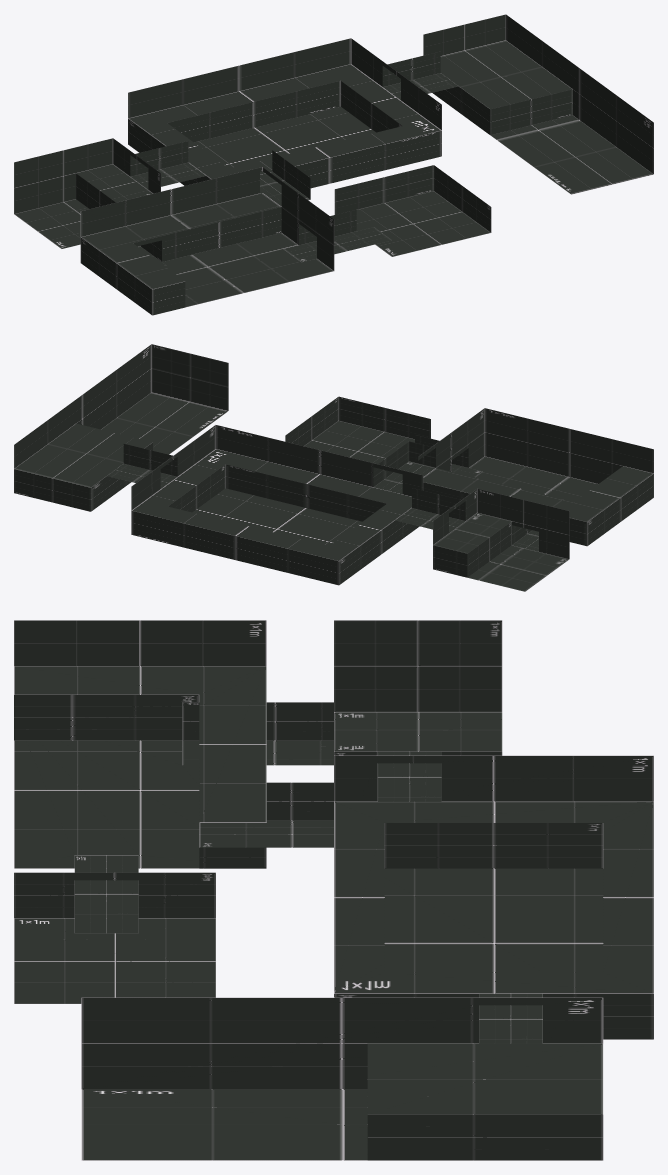
The model's file is main_level.gltf.
The picture shows the model from 3 angles, top to bottom: view 1: azimuth 30°, elevation 25°; view 2: azimuth 150°, elevation 25°; view 3: azimuth 270°, elevation 25°; orthographic projection. The views are drawn at different scales.
Parts seen in each view (by area): view 1: Room2, Overhang33, Overhang2, Overhang43, Overhang24; view 2: Room2, Overhang33, Overhang43, Overhang2, Overhang24; view 3: Room2, Overhang33, Overhang43, Overhang2, Overhang24.
Part boxes in pixels (x1,y1,x2,y2): Room2: (14,14,653,307); Overhang33: (128,64,441,188); Overhang2: (80,193,281,315); Overhang43: (432,40,572,135); Overhang24: (76,164,152,208); Room2: (14,344,653,591); Overhang33: (131,449,419,585); Overhang43: (14,423,152,511); Overhang2: (423,466,653,546); Overhang24: (433,513,511,577); Room2: (14,620,653,1160); Overhang33: (334,801,653,1039); Overhang43: (367,1043,603,1160); Overhang2: (14,666,266,868); Overhang24: (334,719,502,755).
Bounding box in the file's own units: 63 × 6 × 38.
Materials: 1 (1 with a texture image).
